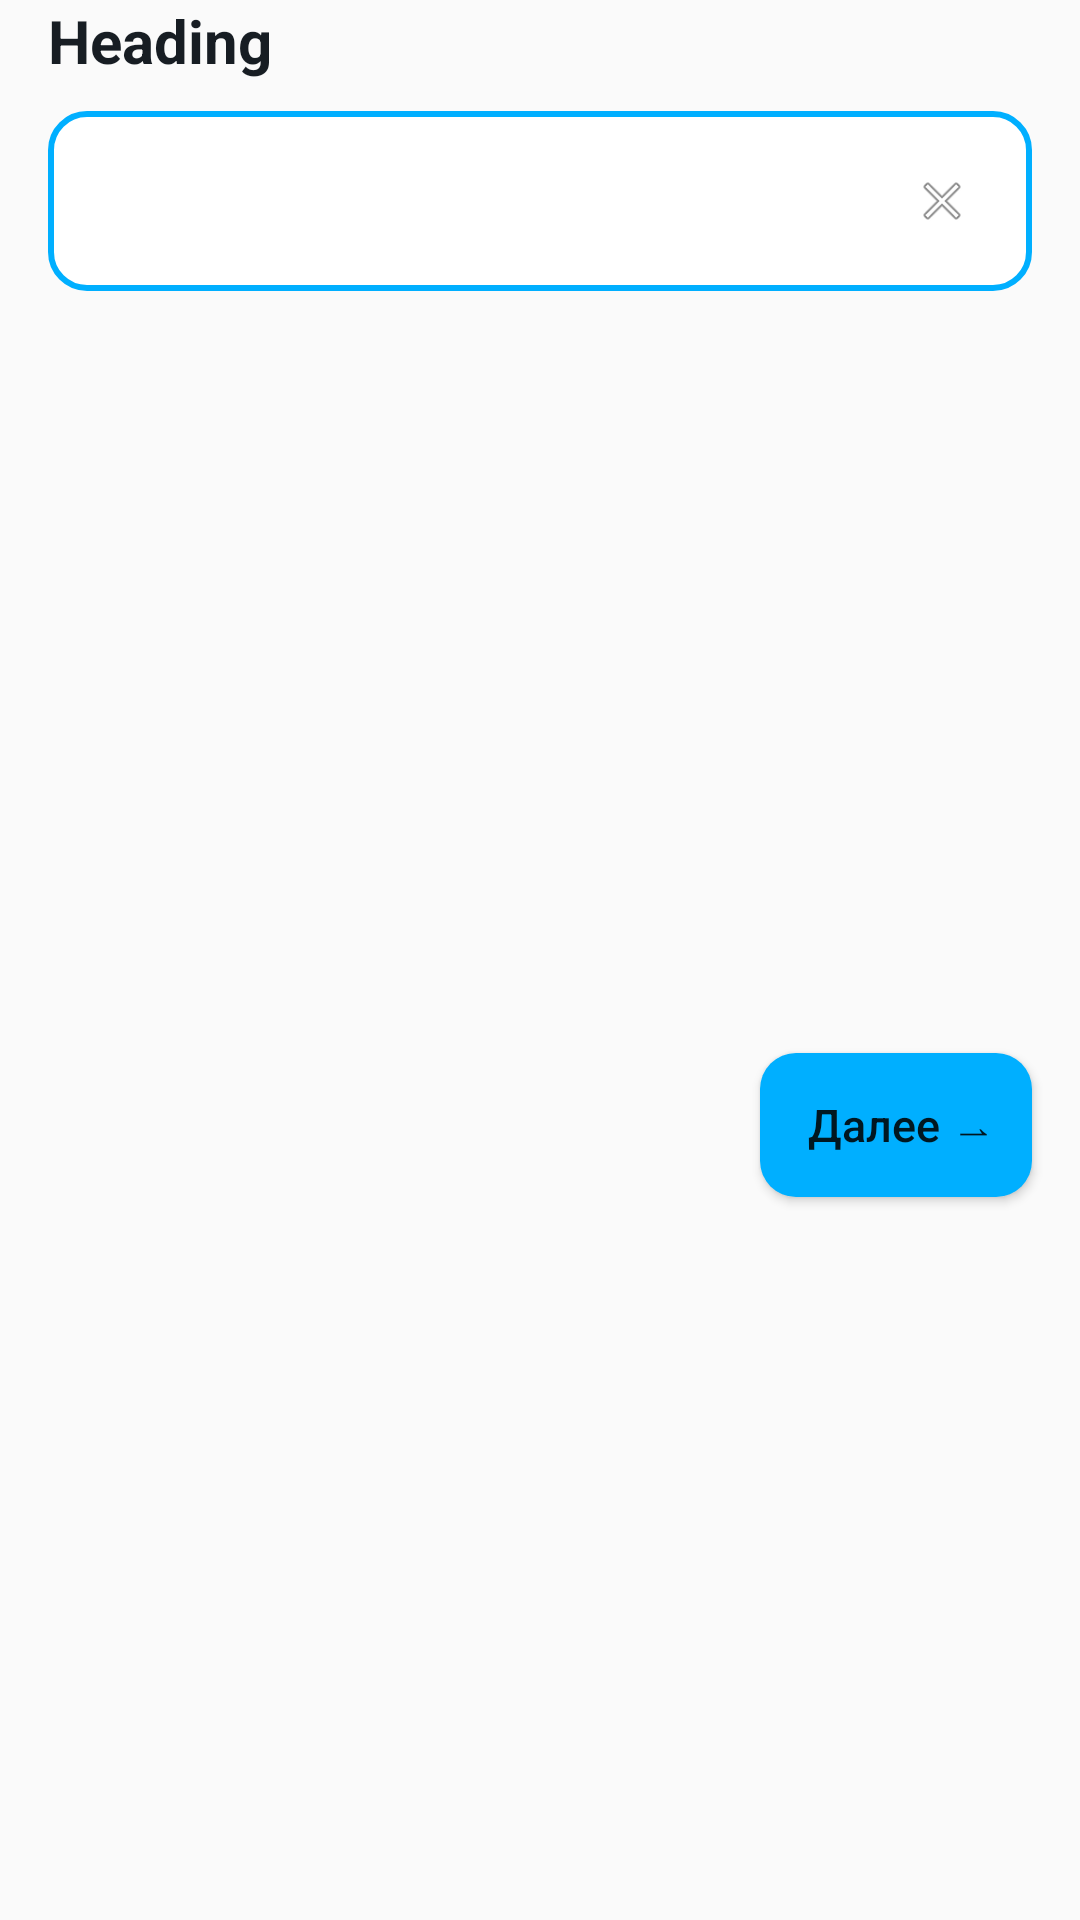

Point at icon controls on the screen. Image size 1080w x 1920h, points as (x,y).
close clear cancel: (942,201)
